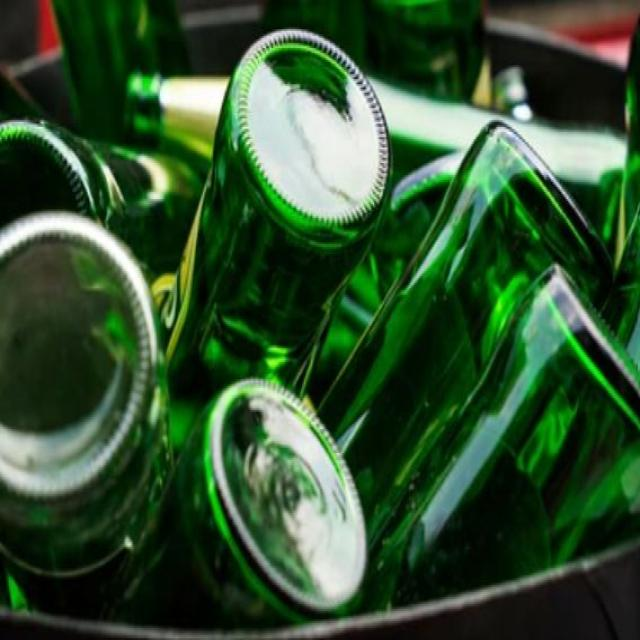electronic: (312, 118, 622, 513), (157, 26, 396, 441), (369, 259, 640, 601), (0, 209, 176, 628), (92, 377, 369, 640)
